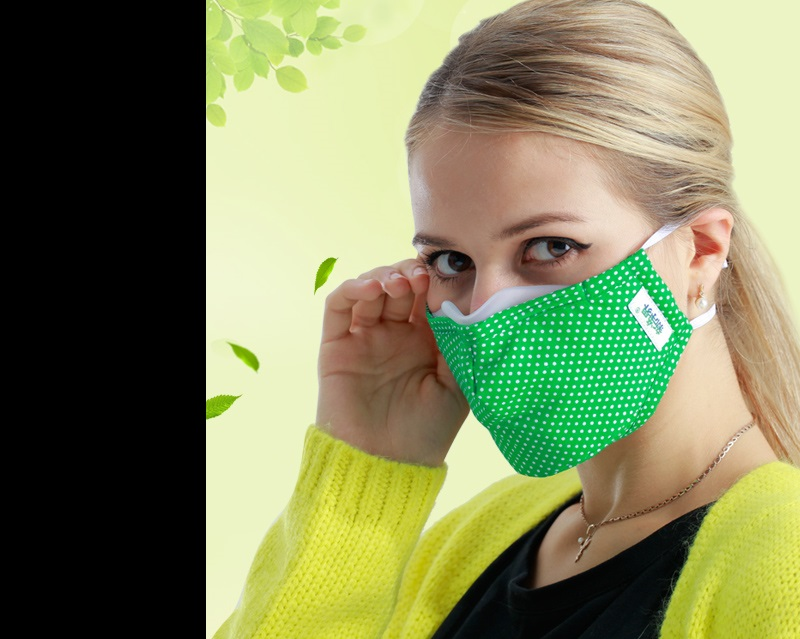face_mask: (407, 124, 677, 443)
